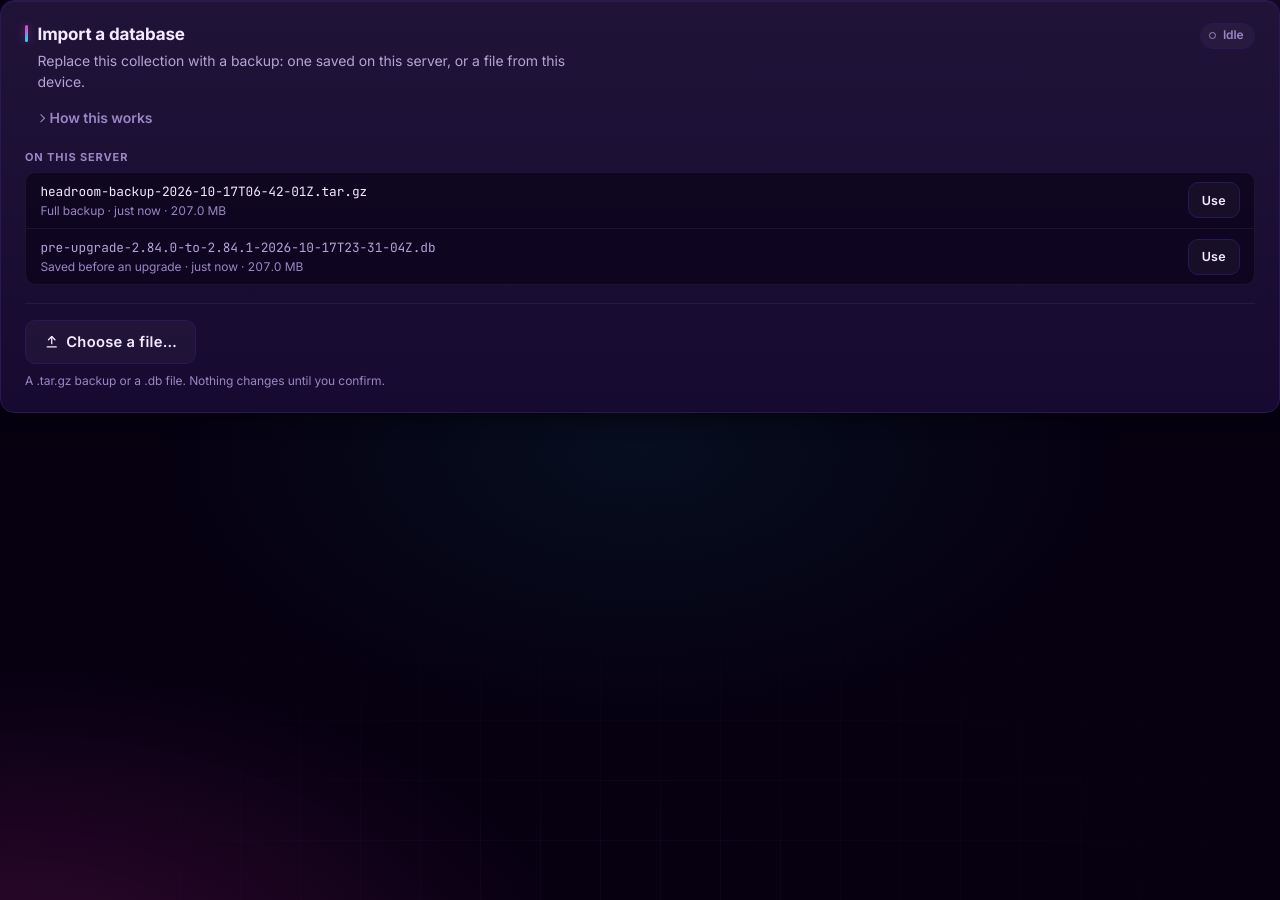
it: DatabaseImportCard › shows what a file holds before anything is replaced
The width and height of the screenshot is (1280, 900).
Click the button with aria-label "Use headroom-backup-2026-10-17T06-42-01Z.tar.gz" at (1214, 200), box [1188, 182, 1240, 218]
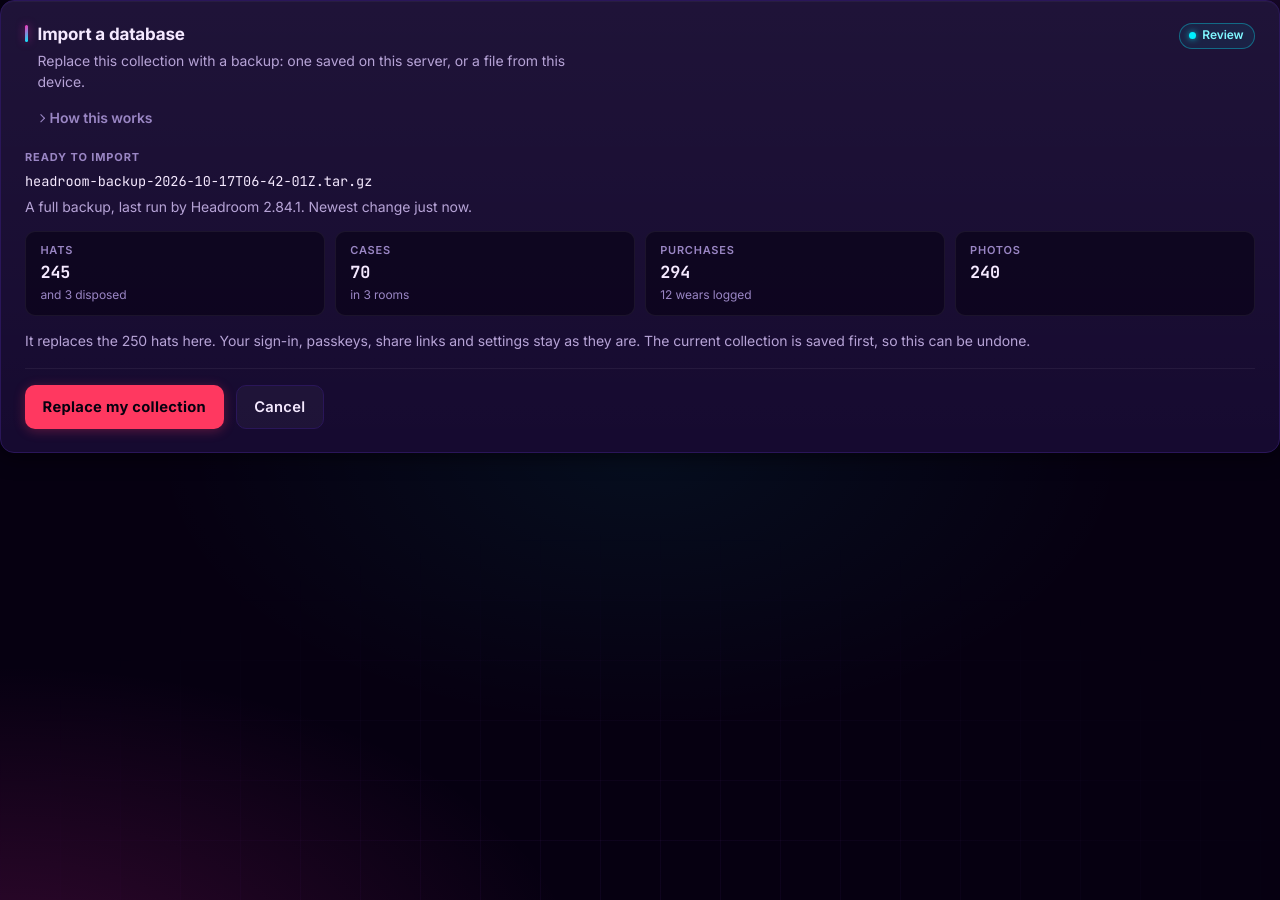
expect the text "245" is shown: met, box [40, 261, 70, 283]
expect the text "It replaces the 250 hats here" is shown: met, box [25, 332, 220, 349]
expect the text "Your sign-in, passkeys, share links and settings stay" is shown: met, box [220, 332, 644, 349]
